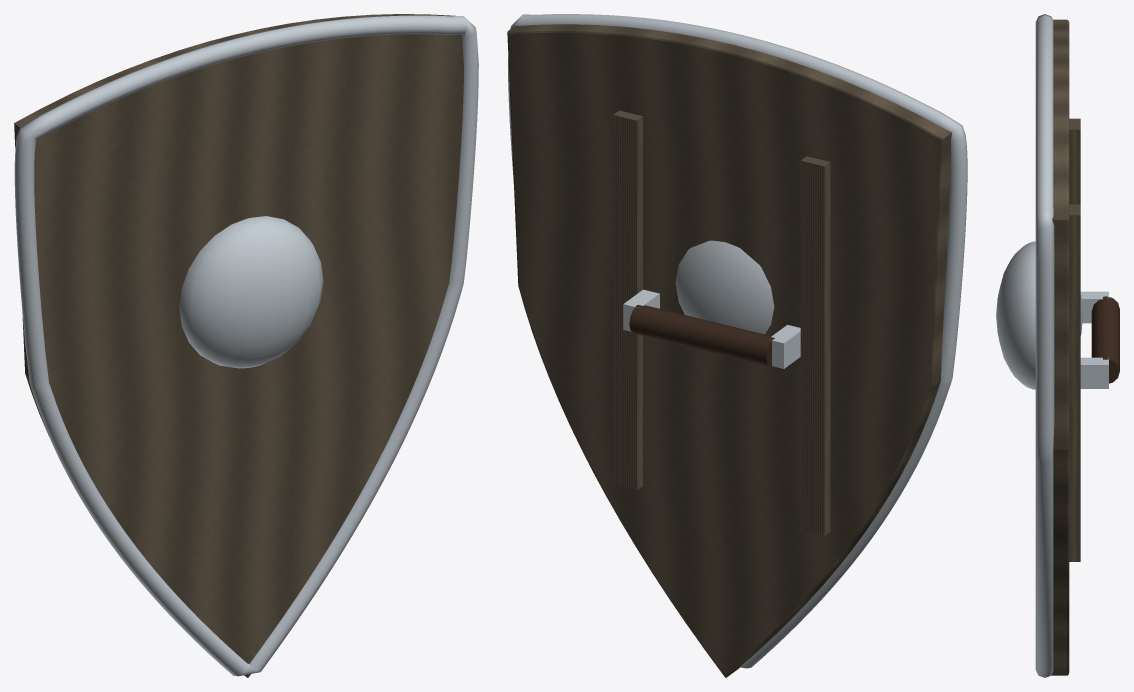
File: corealm_shield_3.glb
3 views of the same model, side by side, from view 1: azimuth 30°, elevation 25°; view 2: azimuth 150°, elevation 25°; view 3: azimuth 270°, elevation 25° (orthographic). The views are drawn at different scales.
Parts seen in each view (by area): view 1: corealm-weapon-wood, corealm-weapon-metal; view 2: corealm-weapon-wood, corealm-weapon-metal, corealm-weapon-leather; view 3: corealm-weapon-metal, corealm-weapon-wood, corealm-weapon-leather.
Part boxes in pixels (<box>): corealm-weapon-wood: <box>14,14,463,677</box>; corealm-weapon-metal: <box>14,15,478,676</box>; corealm-weapon-wood: <box>507,24,951,677</box>; corealm-weapon-metal: <box>508,14,967,668</box>; corealm-weapon-leather: <box>629,304,774,366</box>; corealm-weapon-metal: <box>996,14,1108,677</box>; corealm-weapon-wood: <box>1051,19,1080,675</box>; corealm-weapon-leather: <box>1091,296,1119,383</box>.
Bounding box in the file's own units: 0.6348 × 0.8412 × 0.1587.
Materials: 3 (2 with a texture image).
